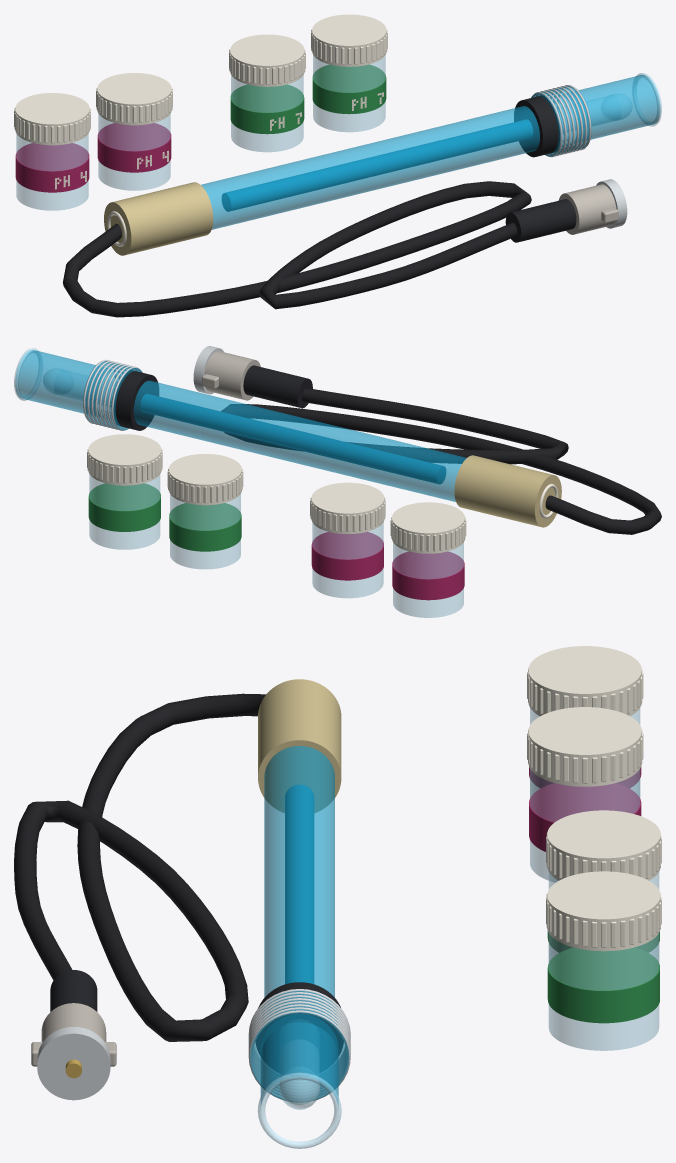
Rendered from sensors-30.glb.
3 views of the same model, one above another, from view 1: azimuth 30°, elevation 25°; view 2: azimuth 150°, elevation 25°; view 3: azimuth 270°, elevation 25° (orthographic). The views are drawn at different scales.
Parts seen in each view (by area): view 1: neutral, acid, cable, handle, strain-relief, bnc, collar, guard, tip; view 2: acid, neutral, handle, cable, strain-relief, bnc, collar, guard, tip; view 3: neutral, cable, acid, handle, collar, strain-relief, bnc, guard, tip.
Part boxes in pixels (x1=…): neutral: x1=229, y1=14, x2=387, y2=152; acid: x1=14, y1=73, x2=172, y2=210; cable: x1=63, y1=181, x2=531, y2=317; handle: x1=201, y1=106, x2=539, y2=229; strain-relief: x1=104, y1=182, x2=213, y2=255; bnc: x1=505, y1=179, x2=627, y2=242; collar: x1=514, y1=85, x2=591, y2=157; guard: x1=562, y1=73, x2=661, y2=143; tip: x1=557, y1=94, x2=631, y2=132; acid: x1=310, y1=482, x2=466, y2=617; neutral: x1=87, y1=434, x2=243, y2=569; handle: x1=133, y1=380, x2=466, y2=501; cable: x1=221, y1=388, x2=661, y2=534; strain-relief: x1=454, y1=455, x2=561, y2=527; bnc: x1=193, y1=346, x2=312, y2=408; collar: x1=83, y1=359, x2=158, y2=430; guard: x1=14, y1=348, x2=111, y2=416; tip: x1=43, y1=369, x2=116, y2=406; neutral: x1=546, y1=810, x2=661, y2=1050; cable: x1=14, y1=693, x2=265, y2=1041; acid: x1=527, y1=646, x2=643, y2=882; handle: x1=264, y1=746, x2=334, y2=997; collar: x1=248, y1=982, x2=350, y2=1102; strain-relief: x1=258, y1=679, x2=341, y2=812; bnc: x1=31, y1=970, x2=116, y2=1100; guard: x1=257, y1=1014, x2=341, y2=1148; tip: x1=279, y1=1040, x2=320, y2=1109.
Size of the model in its own units: 3.41 by 0.48 by 2.07.
